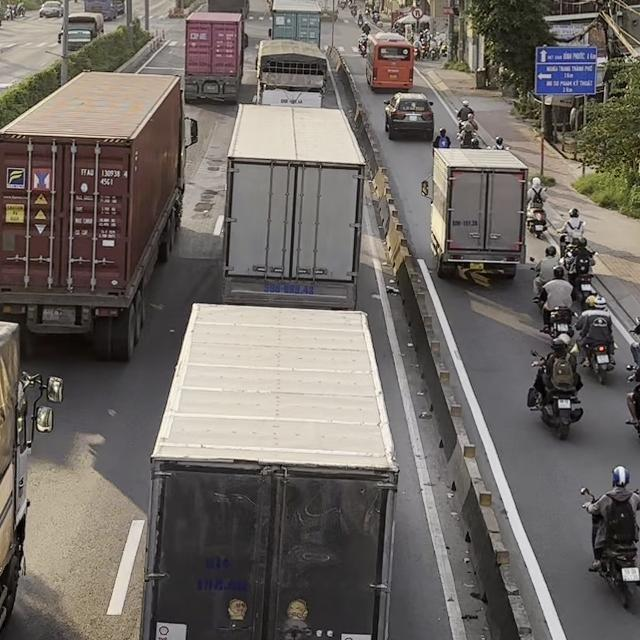bus: (364, 31, 414, 92)
car: (383, 91, 434, 140)
motorcycle: (579, 486, 639, 609), (530, 348, 583, 440), (573, 311, 617, 385), (567, 251, 599, 308), (527, 187, 549, 239), (548, 302, 575, 339)
truck: (139, 301, 401, 639), (0, 69, 198, 361), (220, 102, 366, 312), (0, 318, 63, 639), (422, 145, 529, 282), (183, 11, 249, 105), (255, 38, 329, 108), (268, 0, 322, 50)
